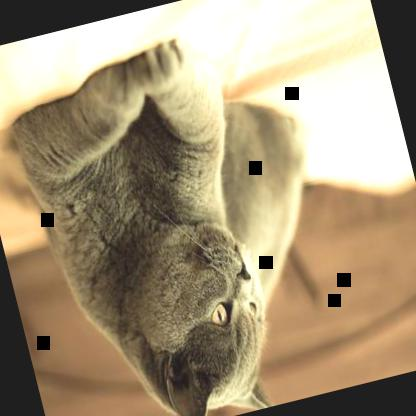cat: (0, 14, 364, 415)
